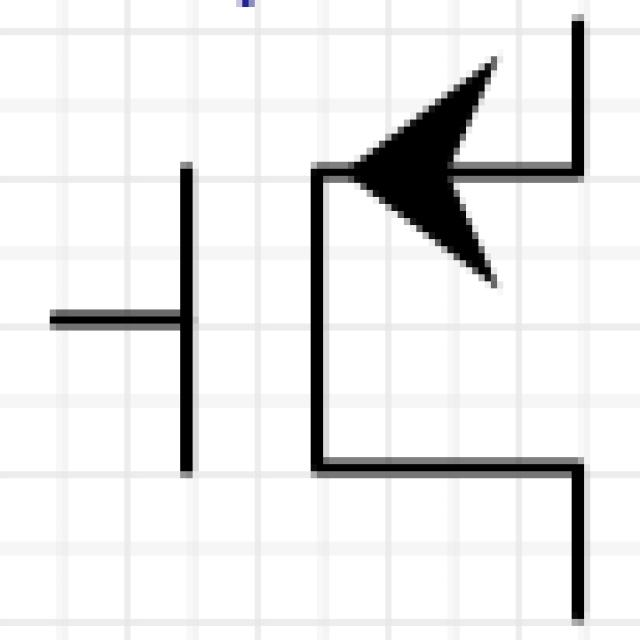pmos: (42, 30, 619, 640)
